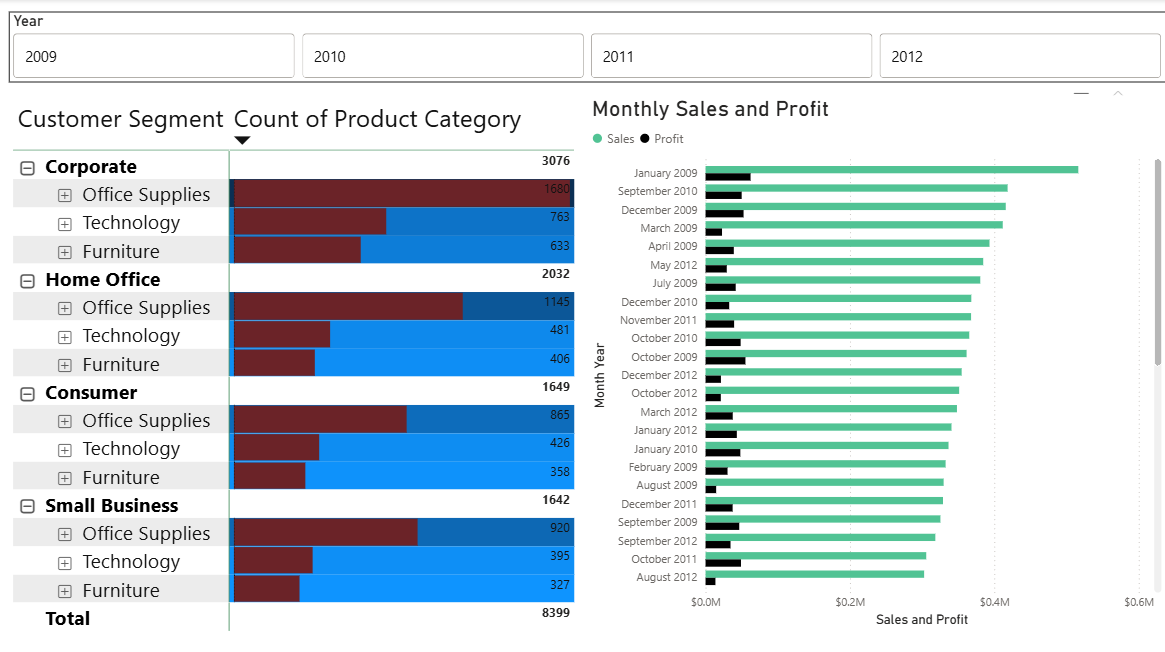

This screenshot's page, from the dashboard's own definition file:
{"tool":"powerbi","page":{"name":"Product Sales and Profit","canvas":[1280,720],"ordinal":1},"visuals":[{"type":"advancedSlicerVisual","fields":{"Values":["Orders.Year"]},"box":[9.6,13.7,1270.7,78.2],"z":0},{"type":"clusteredBarChart","title":"Monthly Sales and Profit","fields":{"Category":["Orders.Month Year"],"Y":["Sum(Orders.Sales)","Sum(Orders.Profit)"]},"box":[644.9,105.7,635.3,588.7],"z":1000},{"type":"pivotTable","fields":{"Rows":["Orders.Customer Segment","Orders.Product Category","Orders.Product Sub-Category"],"Values":["CountNonNull(Orders.Product Category)"]},"box":[10,106,635,614],"z":2000}]}

Visuals, with their boxes in screenshot pixels (x1, y1, x2, y2), scaled from the page's 1280x720 canvas onto the 1165x652 screenshot:
advancedSlicerVisual - Orders.Year: {"left": 9, "top": 12, "right": 1164, "bottom": 83}
"Monthly Sales and Profit" clusteredBarChart: {"left": 587, "top": 96, "right": 1164, "bottom": 629}
pivotTable - Orders.Customer Segment x Orders.Product Category: {"left": 9, "top": 96, "right": 587, "bottom": 651}
